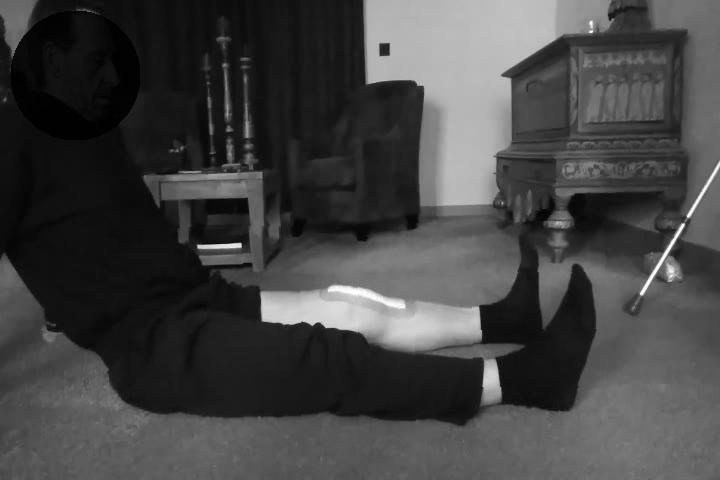lowerbody: (109, 223, 609, 440)
